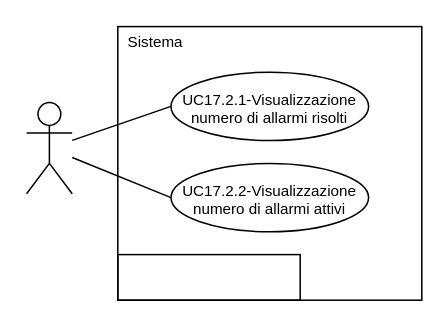
Image size: 448x327. Some labels were removed from this diagram. Each missing label, with the centre of its shape:
UC17.2-Visualizzazione statistiche allarmi: the point at 208,276
Utente: the point at 48,147
